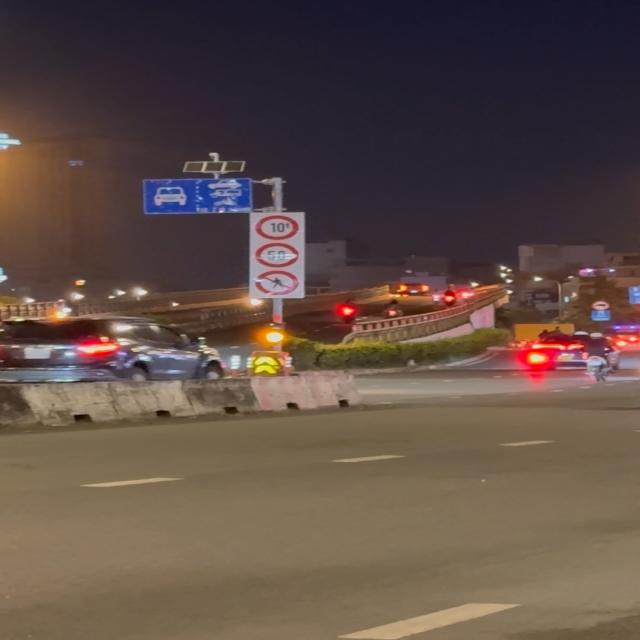Bien bao cam nguoi di bo: (257, 270, 302, 296)
Bien bao toc do toi da cho phep: (254, 241, 302, 268)
